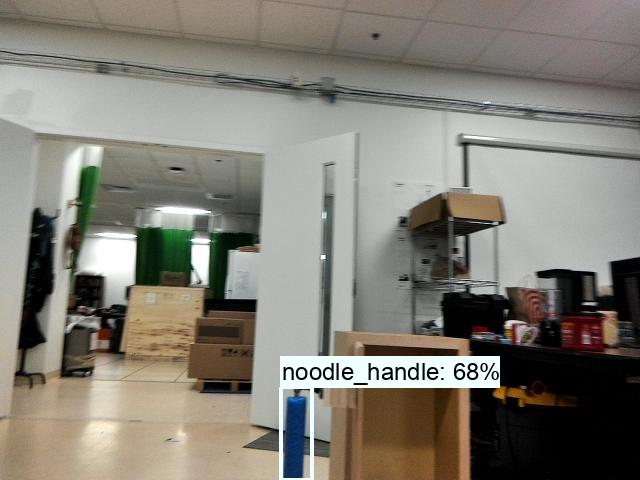noodle_handle: (284, 383, 312, 480)
